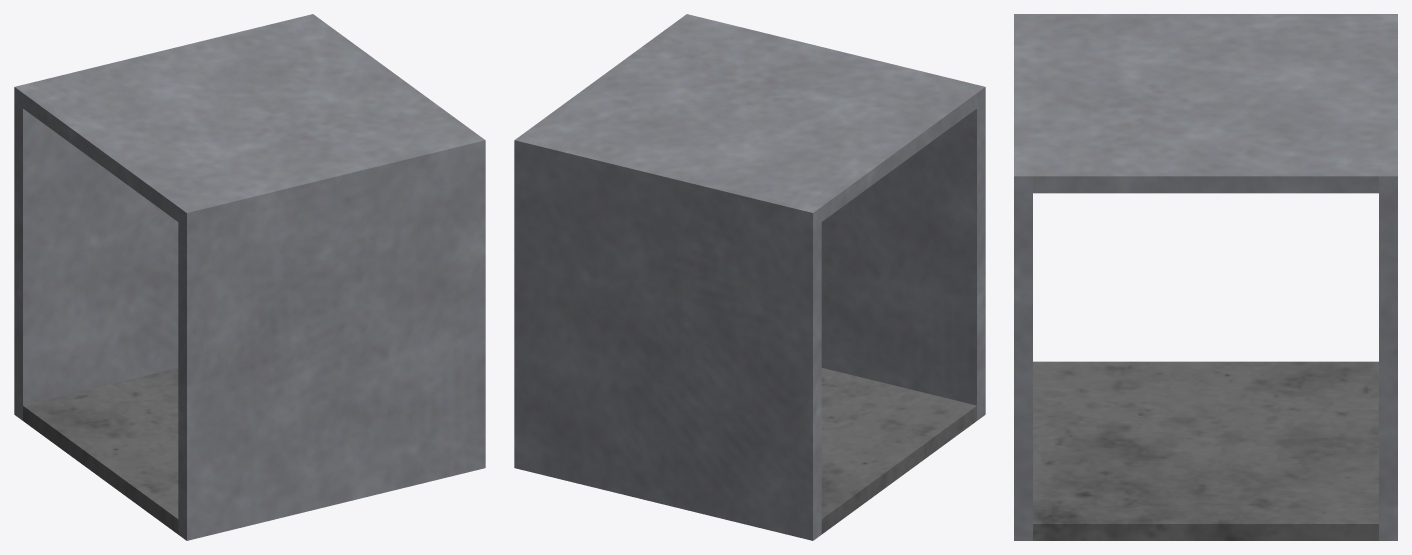
Rendered from facility_connector.fbx.
The picture shows the model from 3 angles, left to right: view 1: azimuth 30°, elevation 25°; view 2: azimuth 150°, elevation 25°; view 3: azimuth 270°, elevation 25°; orthographic projection. The views are drawn at different scales.
Parts seen in each view (by area): view 1: facility_connector; view 2: facility_connector; view 3: facility_connector.
Part boxes in pixels (x1,y1,x2,y2): facility_connector: (14, 14, 485, 540); facility_connector: (514, 14, 985, 540); facility_connector: (1014, 14, 1397, 540).
Bounding box in the file's own units: 400 × 420 × 400.
1 material, 1 textured.
